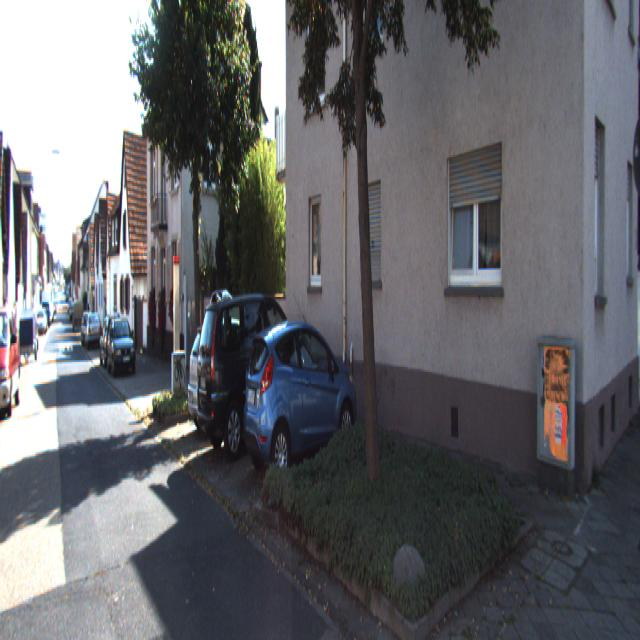Car: (188, 290, 314, 469), (239, 315, 359, 484), (108, 320, 138, 380)
DontCare: (0, 256, 56, 420), (60, 263, 110, 375)
